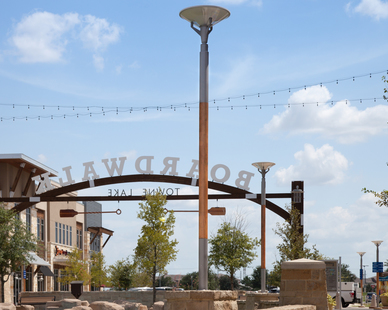light_pole: (183, 1, 222, 300), (250, 159, 276, 296)
